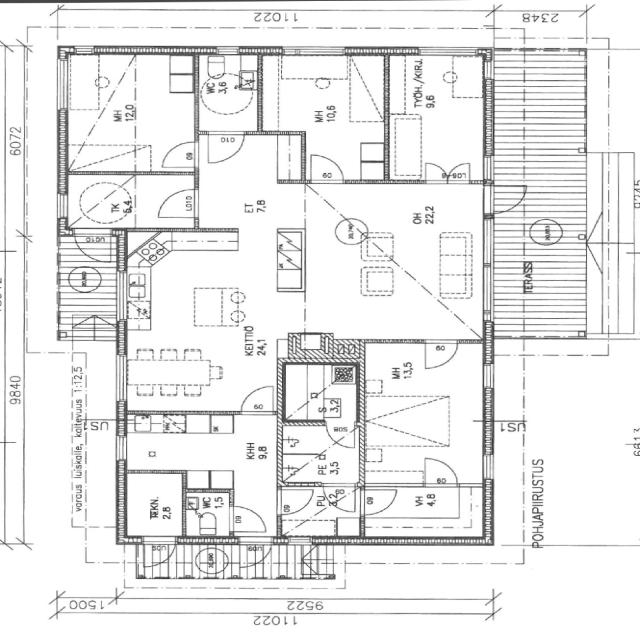door: (275, 484, 349, 529), (149, 181, 203, 226), (66, 228, 117, 266), (200, 128, 248, 165), (155, 138, 202, 172), (235, 382, 279, 416), (276, 484, 320, 518), (419, 158, 474, 185), (418, 454, 462, 487), (304, 151, 348, 184), (422, 337, 460, 371), (226, 503, 268, 533), (362, 483, 400, 516), (489, 186, 527, 216), (144, 540, 175, 567), (241, 540, 272, 566), (326, 422, 355, 449)
window: (51, 52, 78, 115), (477, 260, 499, 321), (478, 215, 498, 270), (111, 353, 131, 406), (283, 45, 347, 57), (479, 358, 500, 392), (416, 46, 478, 57), (112, 430, 130, 462), (480, 451, 498, 483), (54, 188, 70, 222), (65, 42, 98, 57), (140, 534, 178, 544), (212, 44, 243, 55), (284, 534, 313, 544), (306, 574, 335, 584)
zone: (124, 228, 298, 416), (59, 52, 197, 173), (385, 47, 489, 186), (256, 52, 386, 159), (123, 410, 280, 491), (359, 343, 453, 471), (361, 483, 488, 544), (278, 422, 362, 485), (194, 51, 260, 122), (280, 364, 359, 422), (123, 471, 185, 539), (64, 174, 141, 227), (276, 484, 356, 535), (182, 491, 232, 538)
